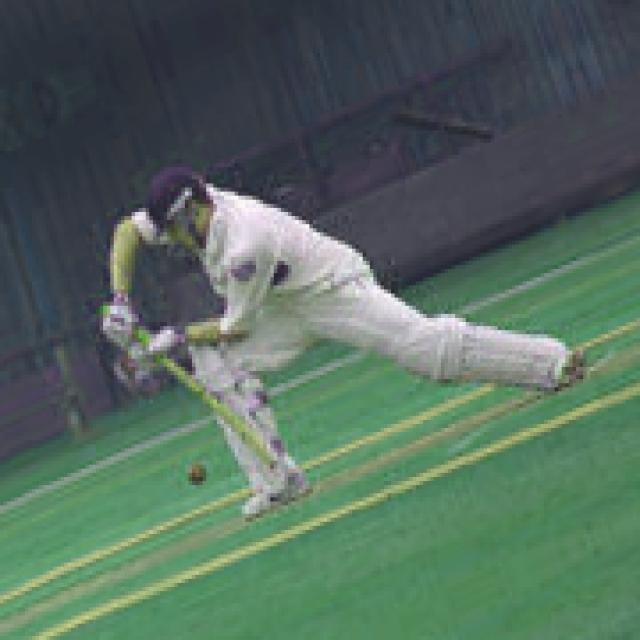toe: (220, 404, 277, 471)
